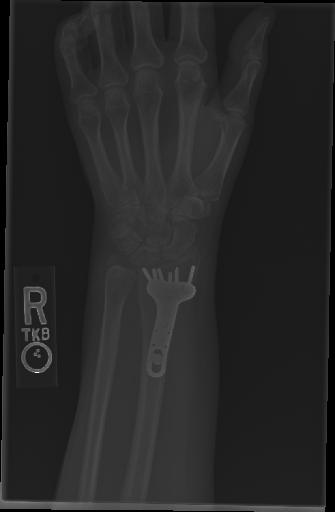wrist positive: (170, 246, 207, 285)
